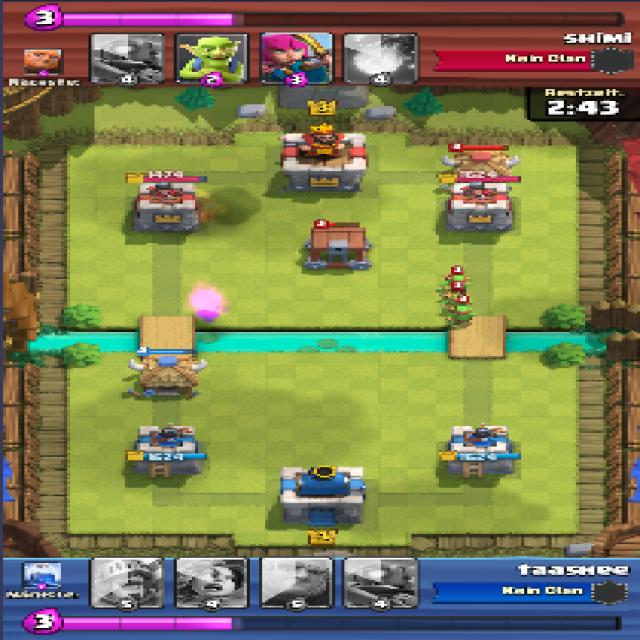Enemy-GoblinHut: (440, 149, 521, 183)
Enemy-SpearGoblin: (442, 305, 480, 327), (442, 288, 472, 308), (439, 273, 471, 291)
Player-GoblinCage: (301, 224, 374, 270)
Player-GoblinHut: (128, 352, 207, 397)
